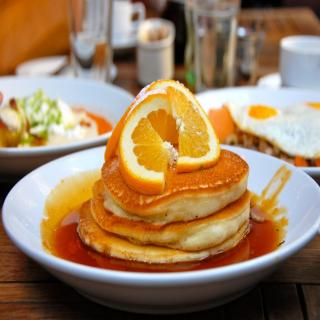Pancake: (101, 154, 248, 222)
